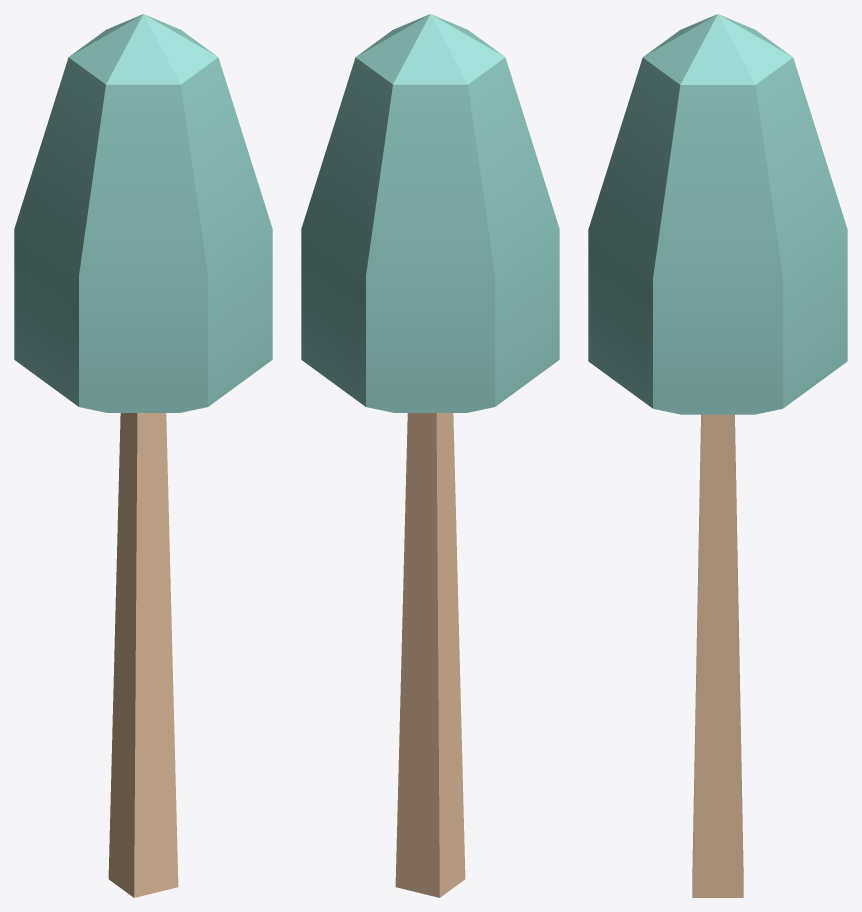
Rendered from tree_simple.gltf.
3 views of the same model, side by side, from view 1: azimuth 30°, elevation 25°; view 2: azimuth 150°, elevation 25°; view 3: azimuth 270°, elevation 25° (orthographic).
Parts seen in each view (by area): view 1: tree_simple; view 2: tree_simple; view 3: tree_simple.
Part boxes in pixels (box(x1,y1,x2,y2)): tree_simple: box(14, 14, 272, 897); tree_simple: box(301, 14, 559, 897); tree_simple: box(588, 14, 847, 897).
Size of the model in its own units: 0.3546 by 1.52 by 0.4095.
